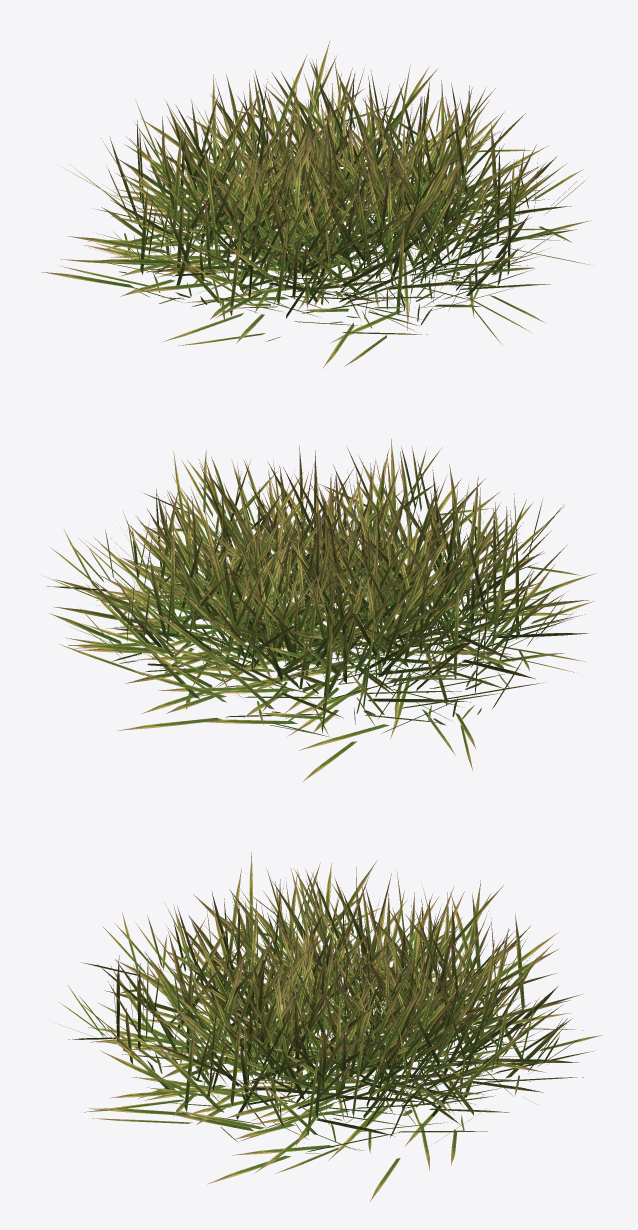
The model's file is capim.gltf.
3 views of the same model, one above another, from view 1: azimuth 30°, elevation 25°; view 2: azimuth 150°, elevation 25°; view 3: azimuth 270°, elevation 25° (orthographic). The views are drawn at different scales.
Parts seen in each view (by area): view 1: capim; view 2: capim; view 3: capim.
Part boxes in pixels (x1,y1,x2,y2): capim: [41, 40, 591, 368]; capim: [44, 438, 595, 781]; capim: [59, 852, 601, 1201].
Bounding box in the file's own units: 1.59 × 0.5458 × 1.57.
Materials: 1 (1 with a texture image).
